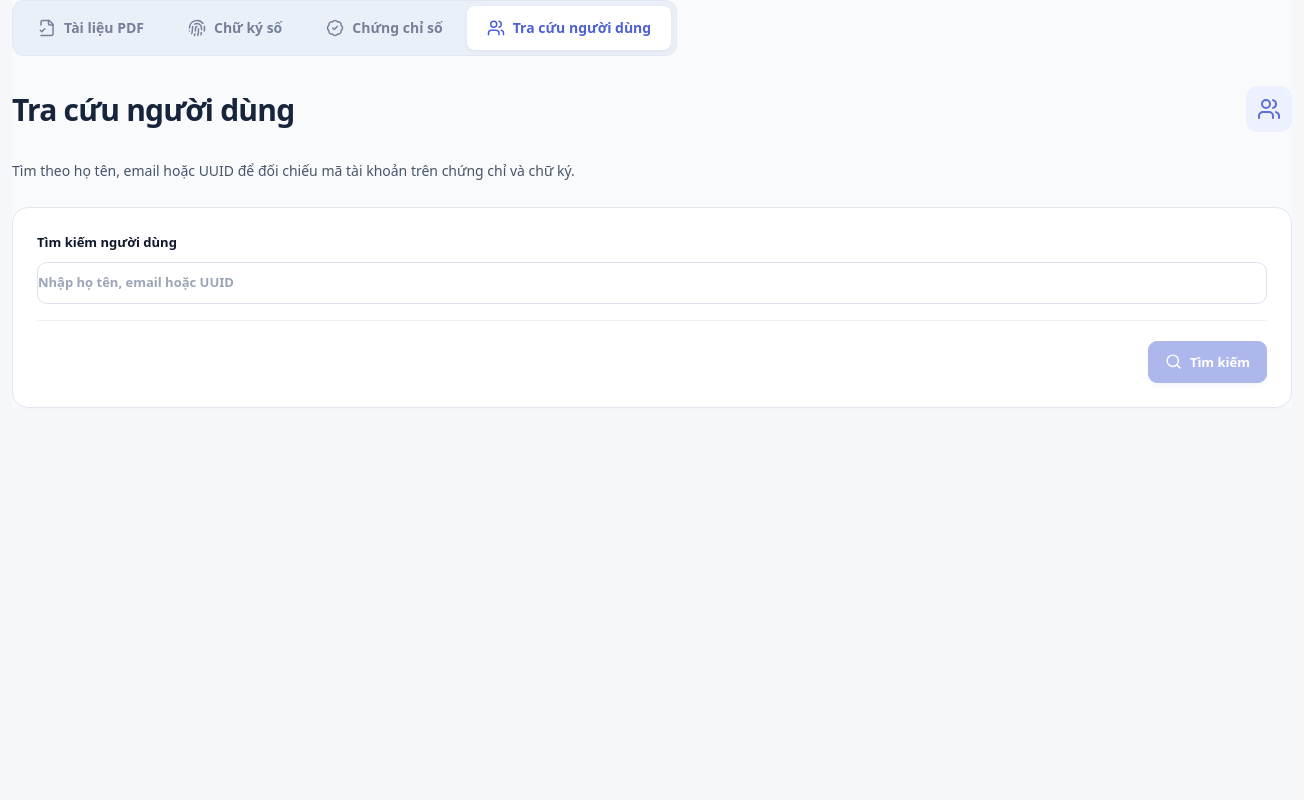
Test case: requests the next page without reusing the previous results
In the search field labelled "Tìm kiếm người dùng": x=652, y=283 [37, 262, 1267, 304], type "cyber.edu"
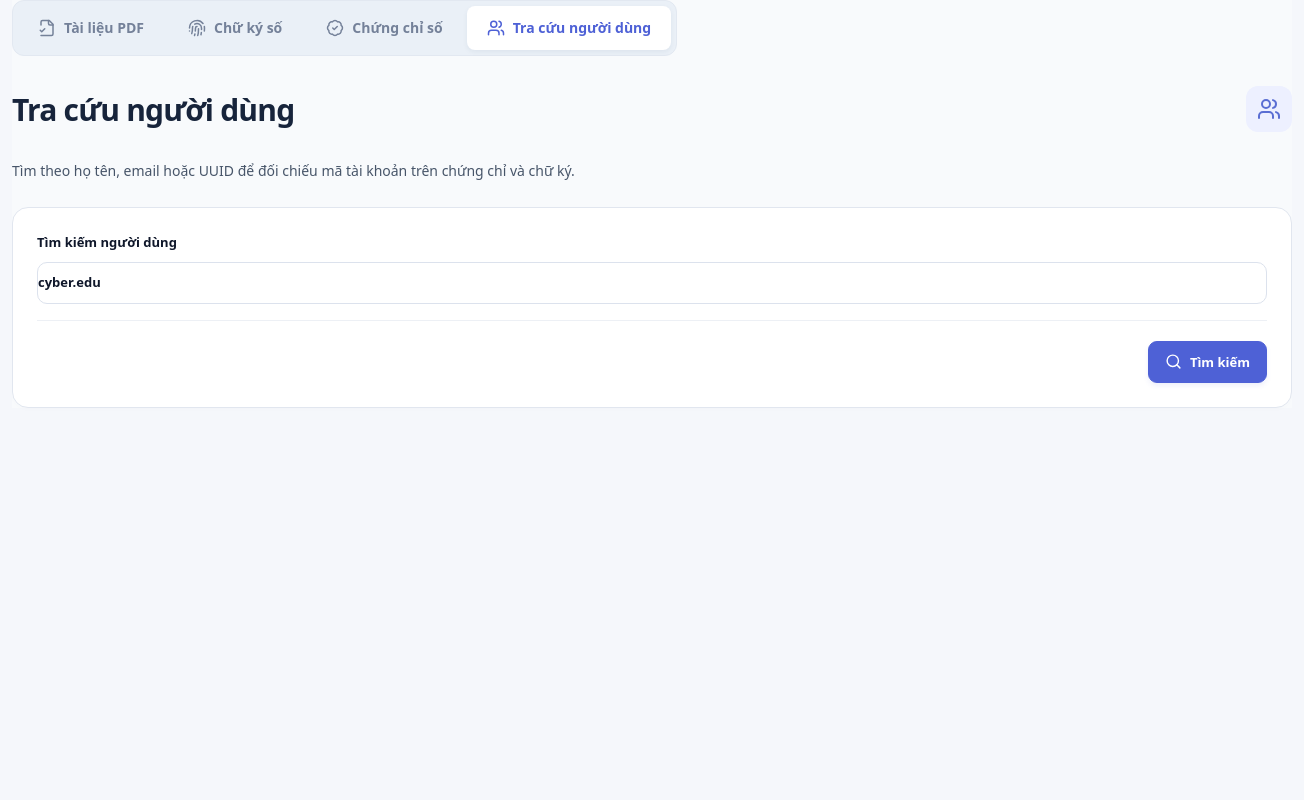
Click the button "Tìm kiếm": x=1207, y=362 [1148, 341, 1267, 383]
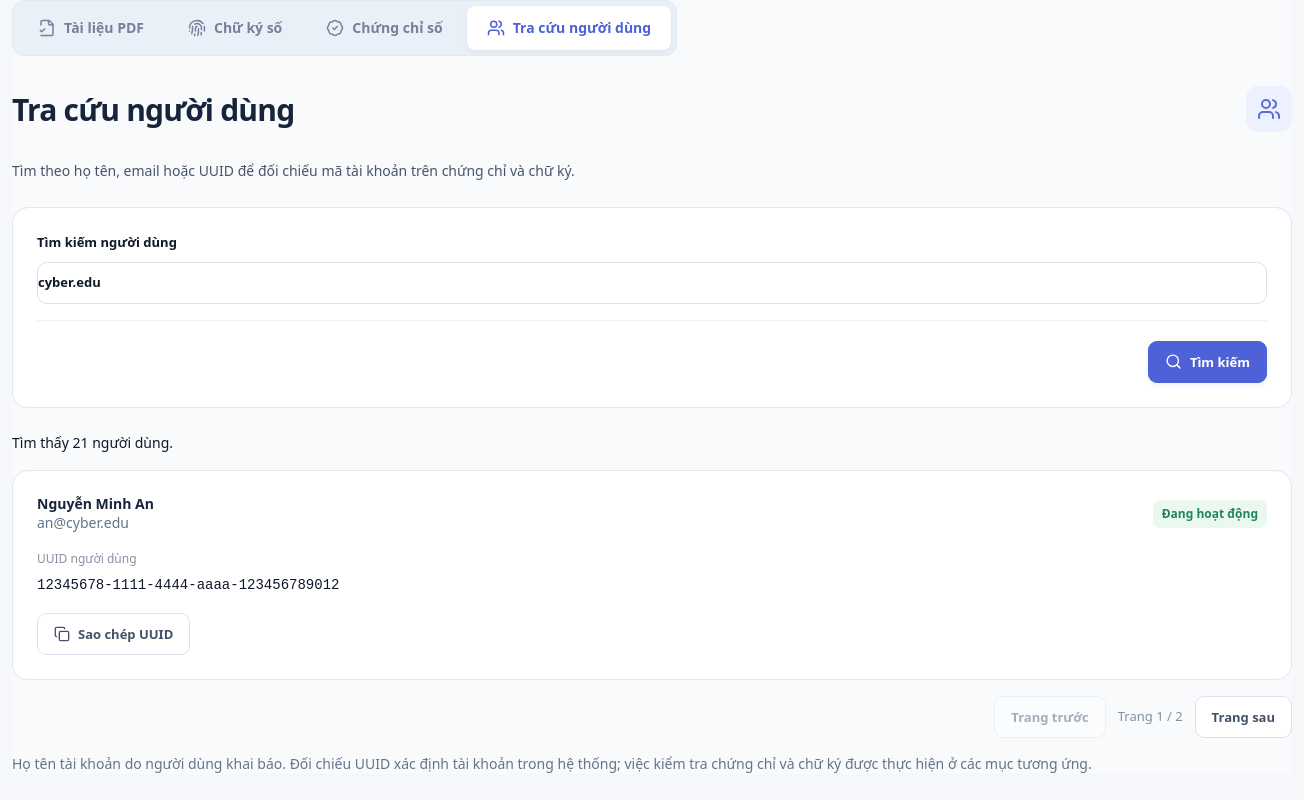
Click the button "Trang sau": x=1243, y=717 [1195, 696, 1292, 738]
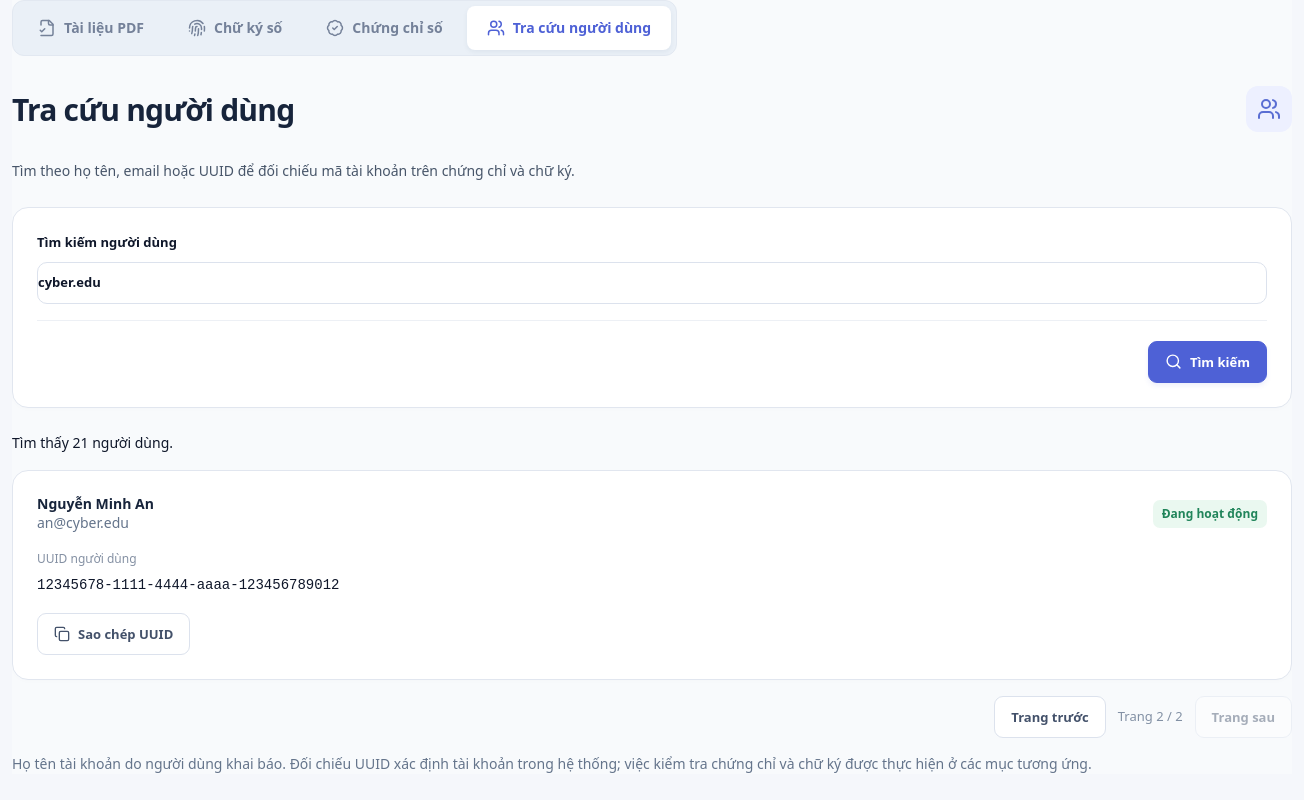
Result: the text "Trang 2 / 2" is shown at [1118, 706, 1183, 727]
Result: the button "Trang sau" is disabled at [1195, 696, 1292, 738]
